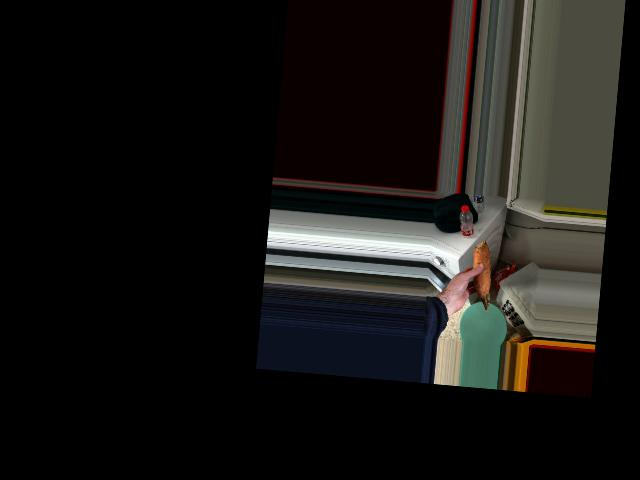sweet_potato: (469, 245, 494, 312)
